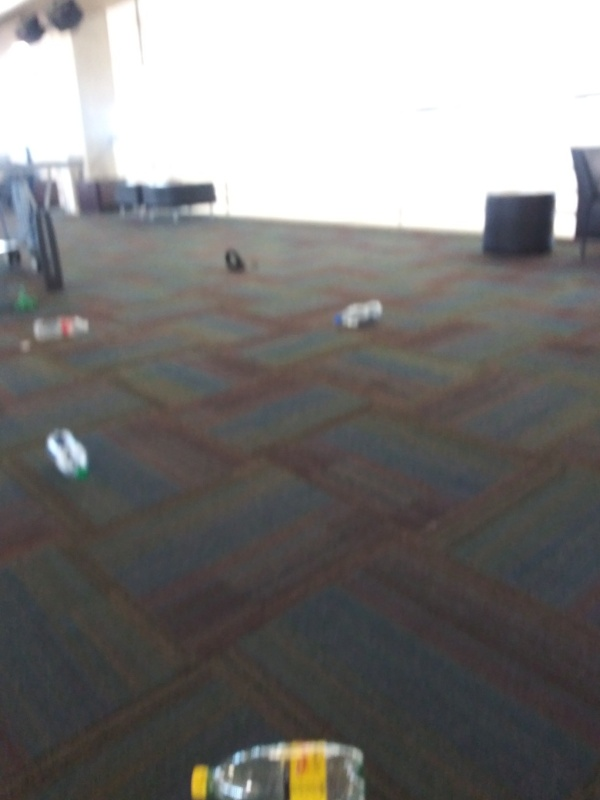bottle: (189, 743, 372, 800), (41, 421, 92, 486), (30, 310, 96, 345), (327, 297, 389, 331)
